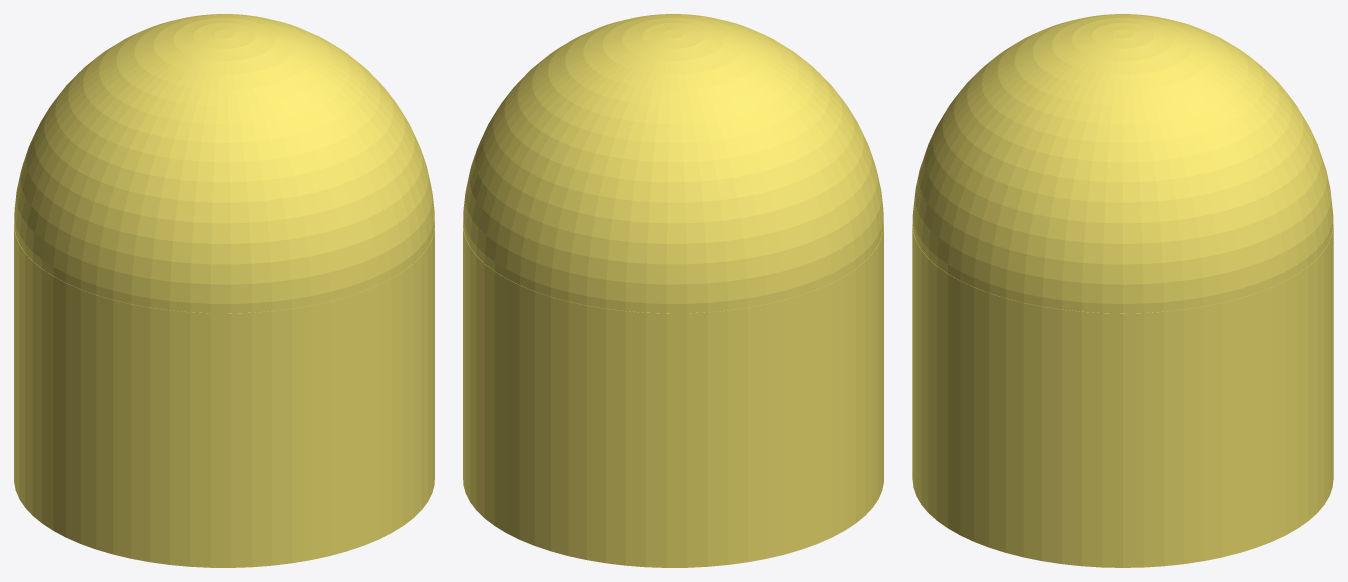
The model's file is knob.glb.
3 views of the same model, side by side, from view 1: azimuth 30°, elevation 25°; view 2: azimuth 150°, elevation 25°; view 3: azimuth 270°, elevation 25° (orthographic).
Size of the model in its own units: 18 by 20.99 by 18.
